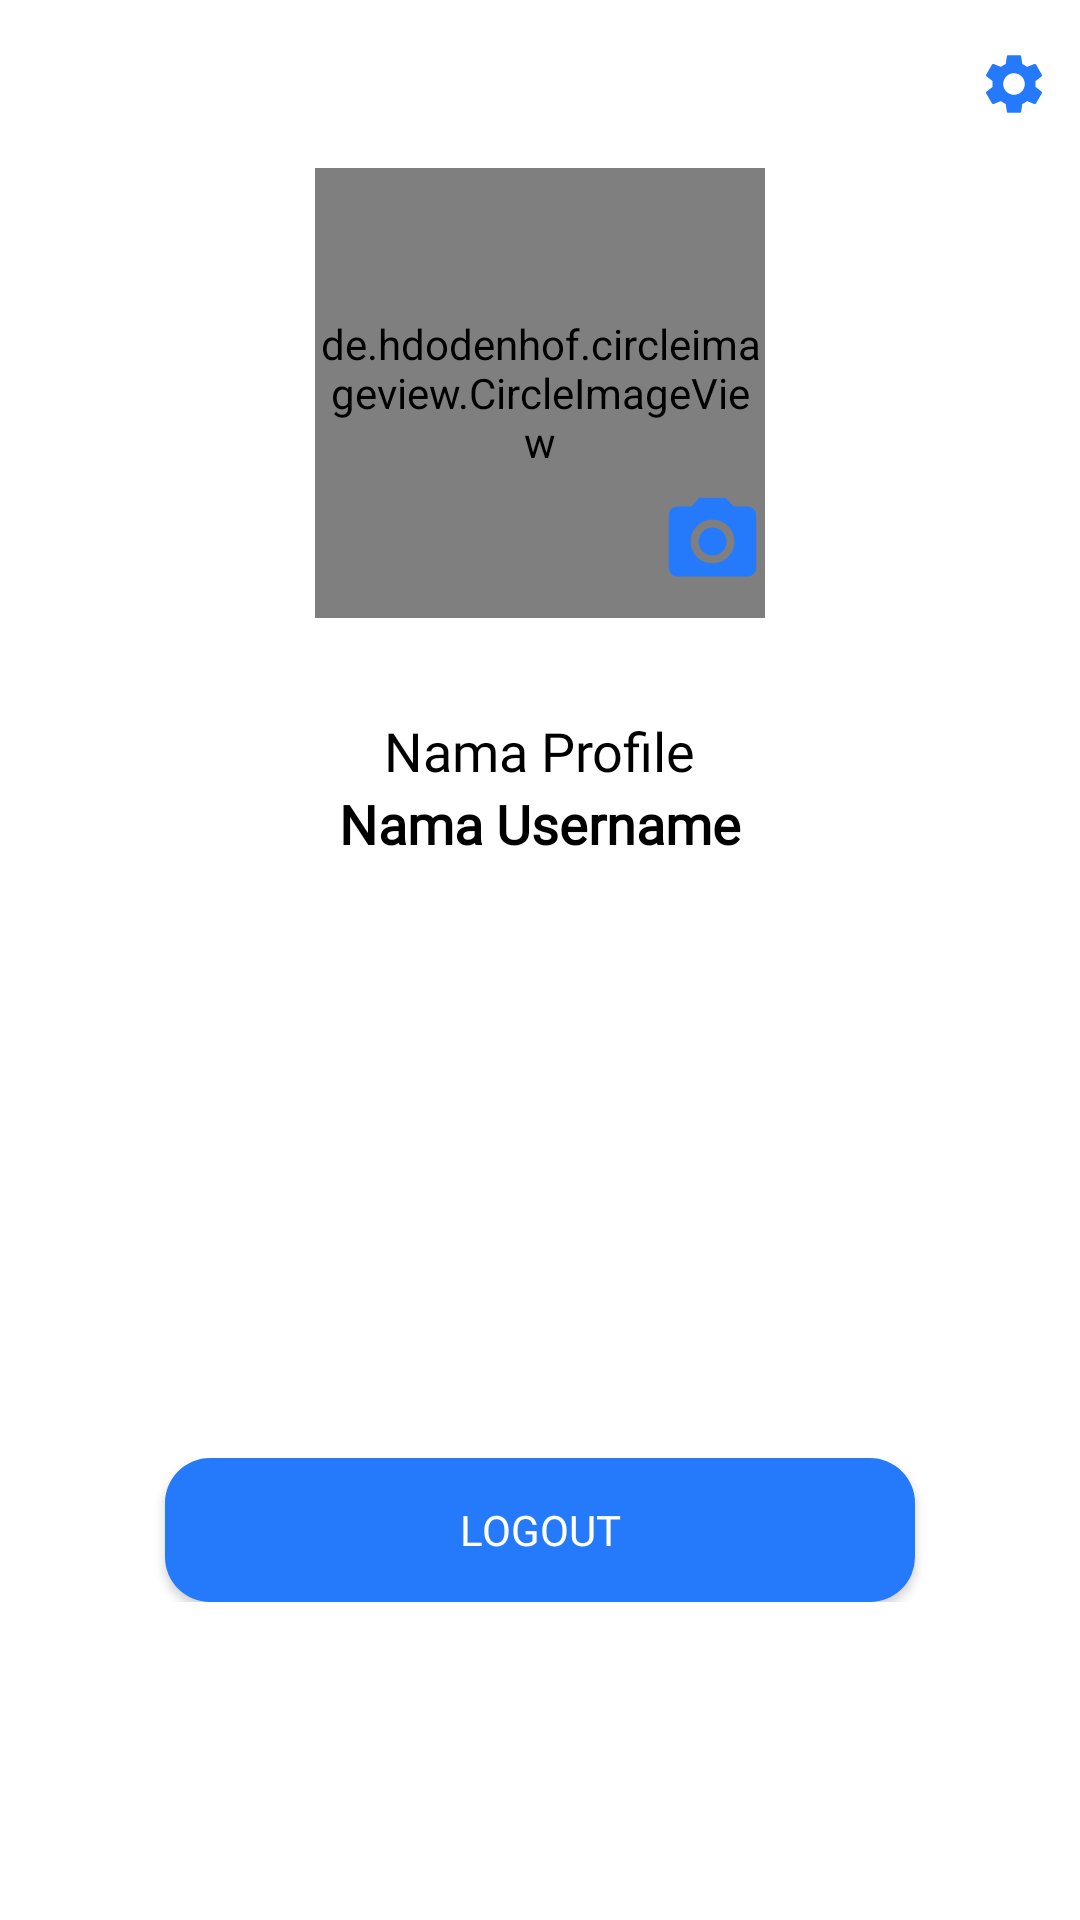

Screen size 1080x1920. Icon name, then its center in pixels as [x,y]:
camera: [712,537]
settings: [1014,84]
